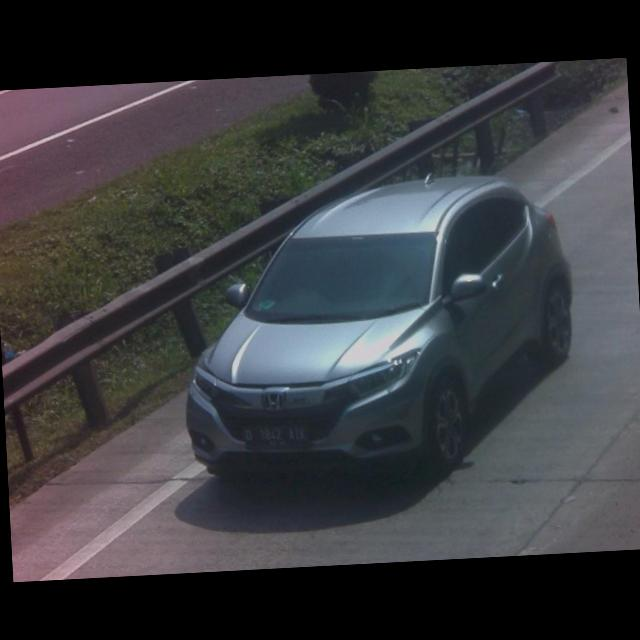plate: (239, 419, 311, 452)
